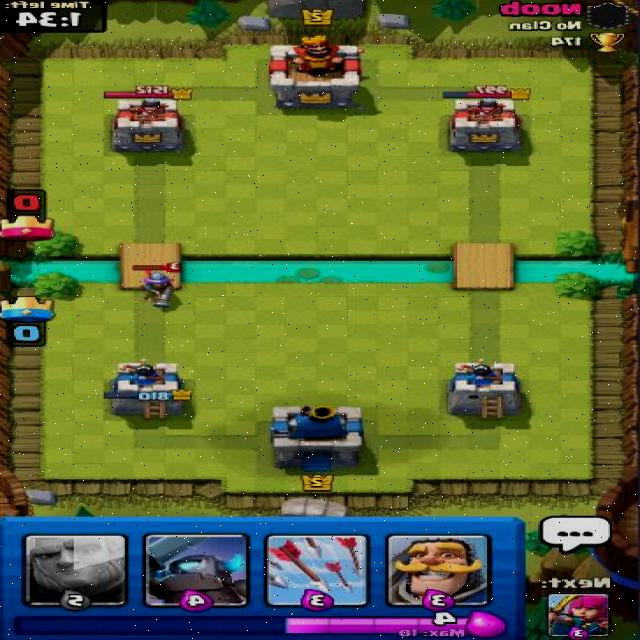Enemy-Musketeer: (127, 260, 188, 310)
